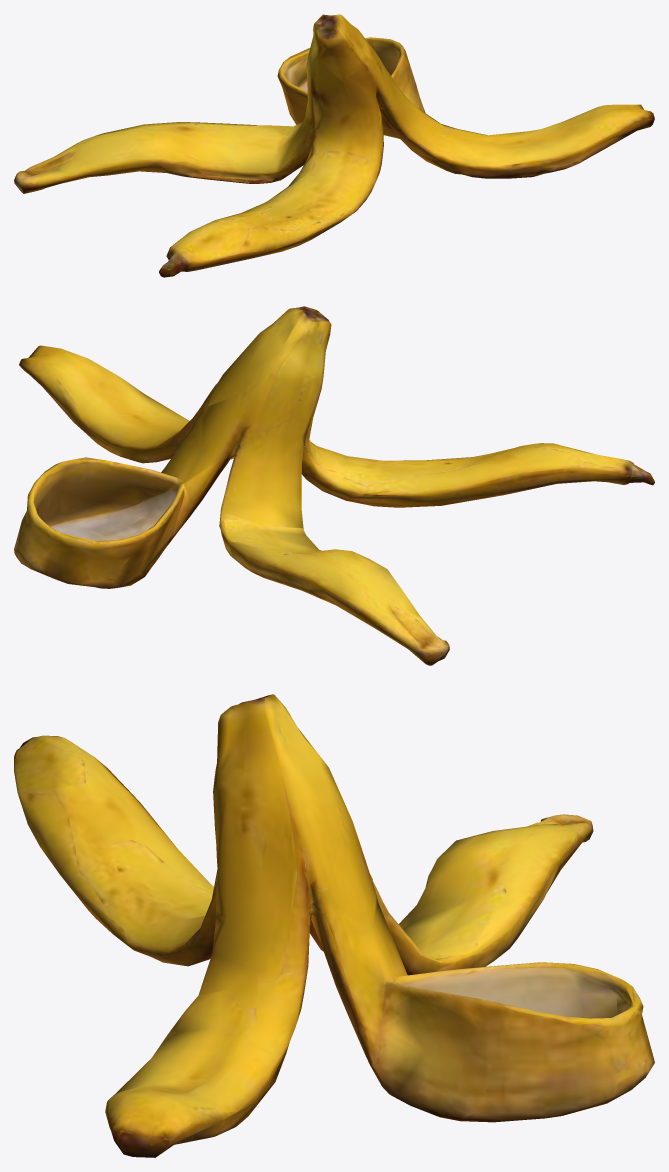
The model's file is item_banana.glb.
3 views of the same model, one above another, from view 1: azimuth 30°, elevation 25°; view 2: azimuth 150°, elevation 25°; view 3: azimuth 270°, elevation 25° (orthographic). The views are drawn at different scales.
Visible parts, largest first — view 1: tripo_node_28874e00; view 2: tripo_node_28874e00; view 3: tripo_node_28874e00.
Boxes of the visible parts, x1,y1,x2,y2 form: tripo_node_28874e00: [14, 14, 654, 277]; tripo_node_28874e00: [14, 306, 654, 665]; tripo_node_28874e00: [14, 694, 654, 1157].
Bounding box in the file's own units: 0.9778 × 0.3451 × 0.6398.
Materials: 1 (1 with a texture image).
